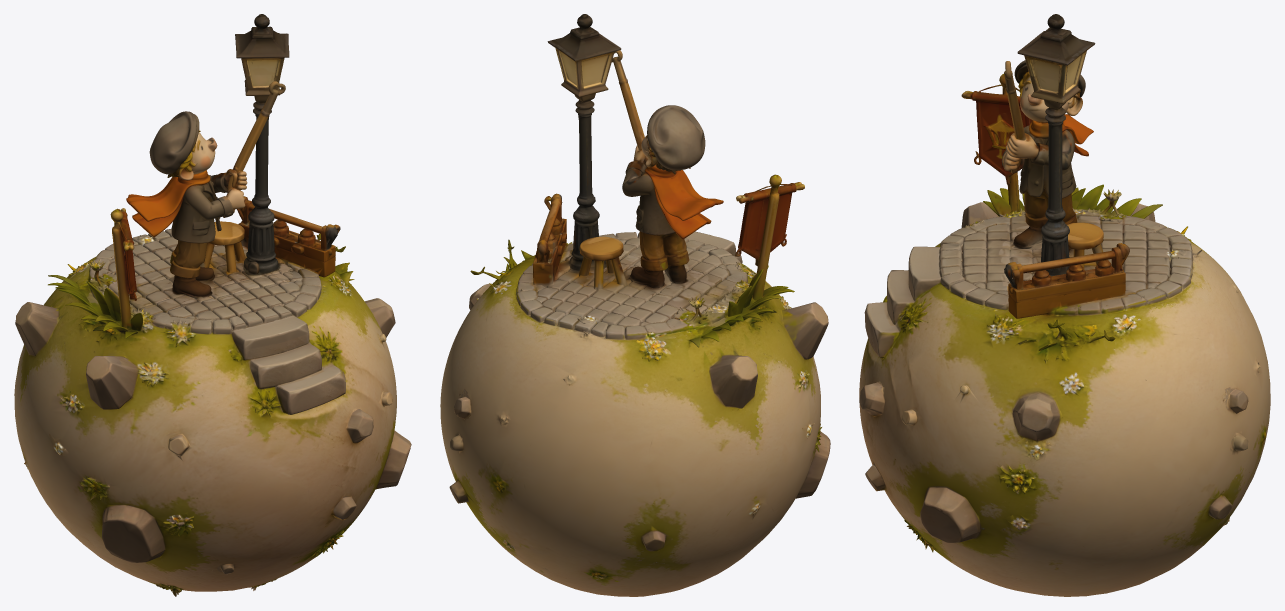
Rendered from lamplighter.glb.
3 views of the same model, side by side, from view 1: azimuth 30°, elevation 25°; view 2: azimuth 150°, elevation 25°; view 3: azimuth 270°, elevation 25° (orthographic). The views are drawn at different scales.
Visible parts, largest first — view 1: node_0; view 2: node_0; view 3: node_0.
Boxes of the visible parts, x1,y1,x2,y2 form: node_0: (14,14,411,596); node_0: (440,14,830,596); node_0: (859,14,1270,596).
Bounding box in the file's own units: 0.7493 × 1.17 × 0.7336.
1 material, 1 textured.
